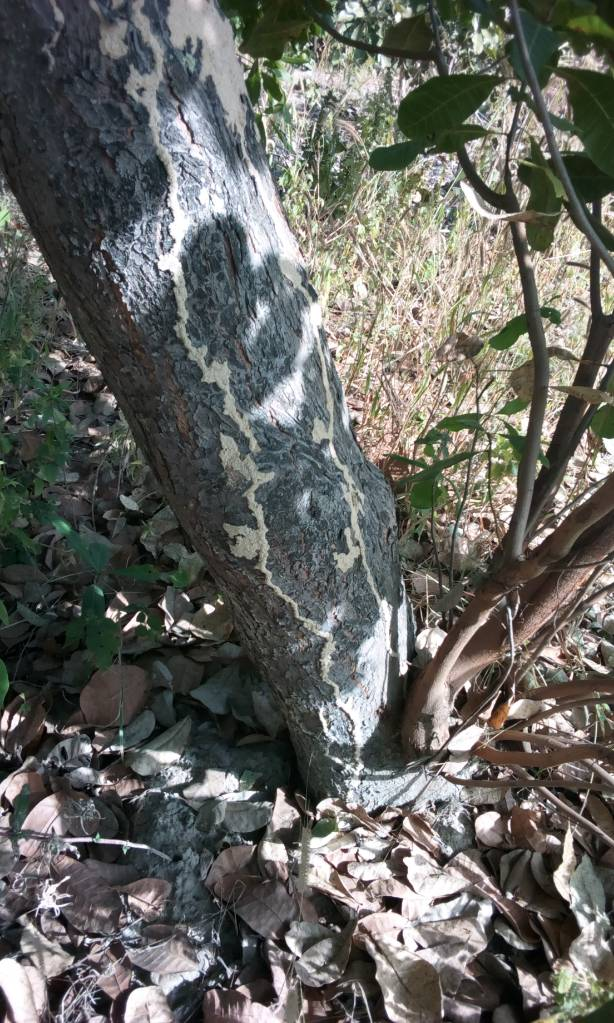Termites: (172, 280, 363, 607), (88, 5, 248, 222)
